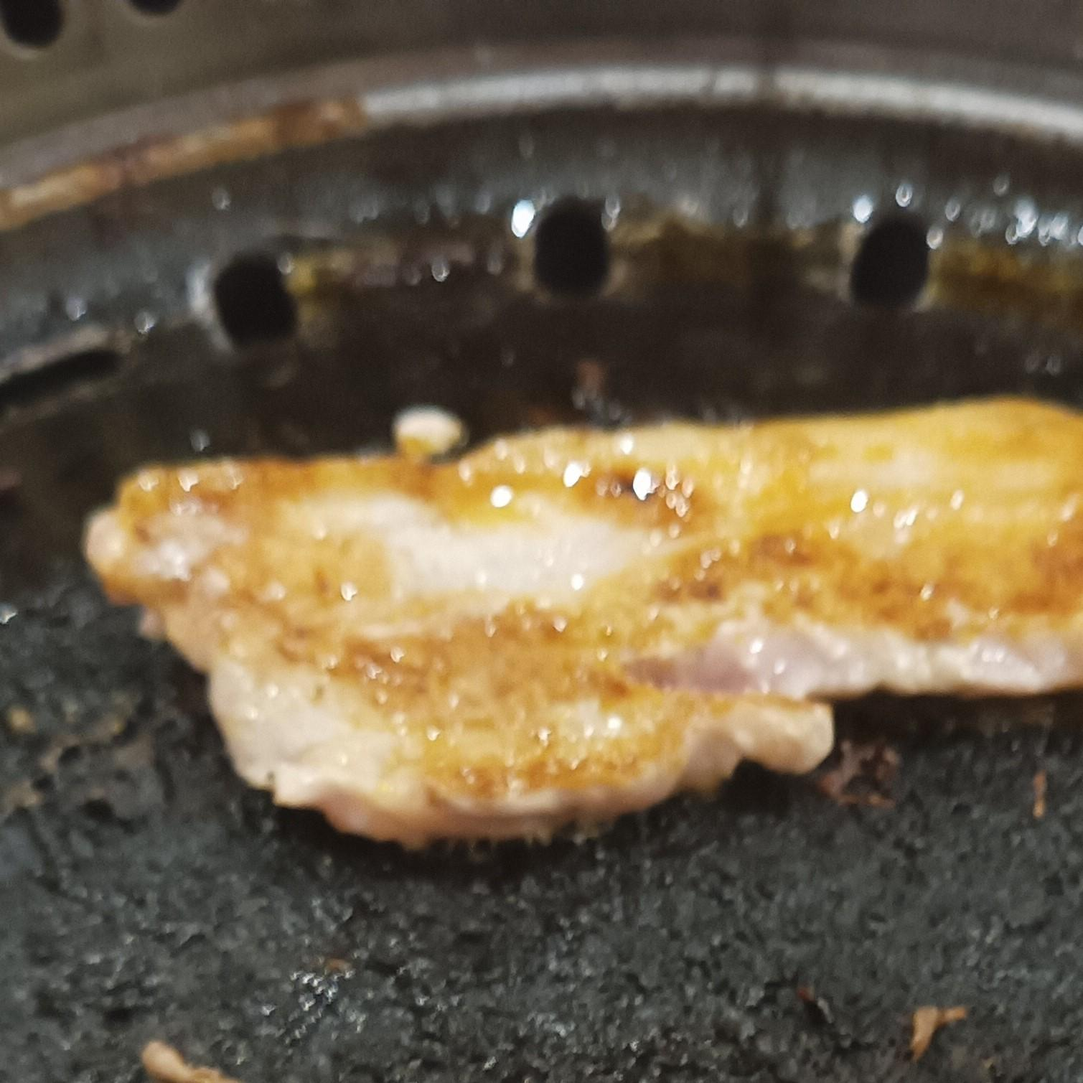Well-Cooked: (81, 399, 1082, 852)
